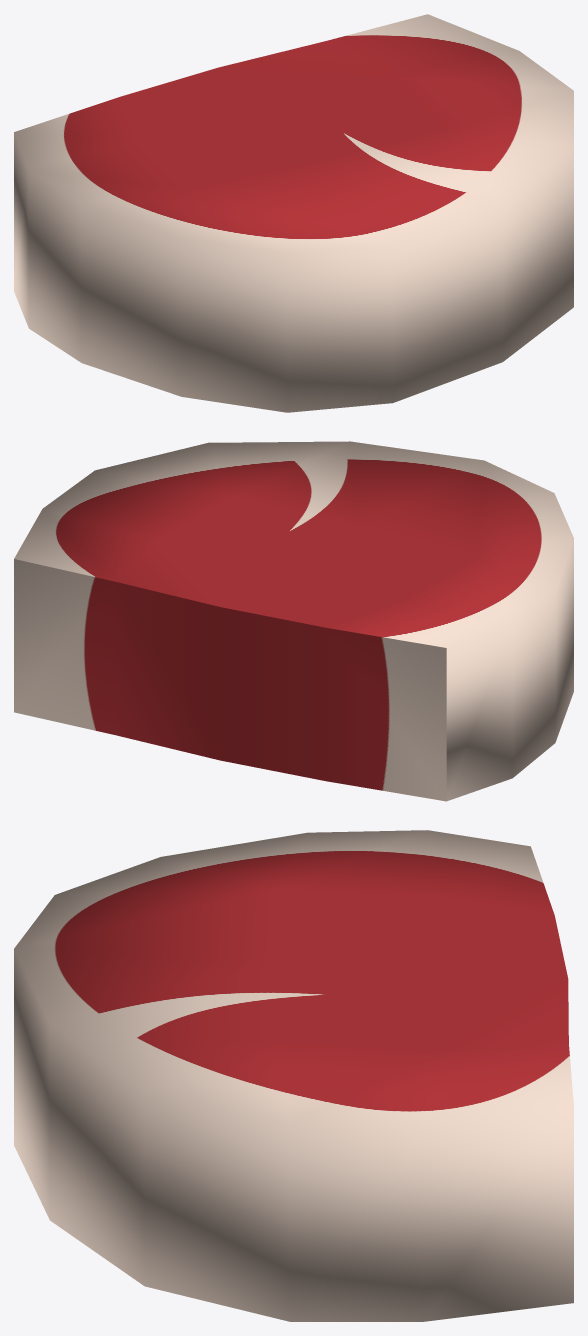
The model's file is Steak1.fbx.
3 renders of one model, top to bottom at view 1: azimuth 30°, elevation 25°; view 2: azimuth 150°, elevation 25°; view 3: azimuth 270°, elevation 25°, orthographic. The views are drawn at different scales.
Visible parts, largest first — view 1: Steak; view 2: Steak; view 3: Steak.
Boxes of the visible parts, x1,y1,x2,y2 form: Steak: (14, 14, 573, 412); Steak: (14, 441, 573, 801); Steak: (14, 830, 573, 1321).
Bounding box in the file's own units: 325 × 101 × 261.
Materials: 1 (1 with a texture image).
